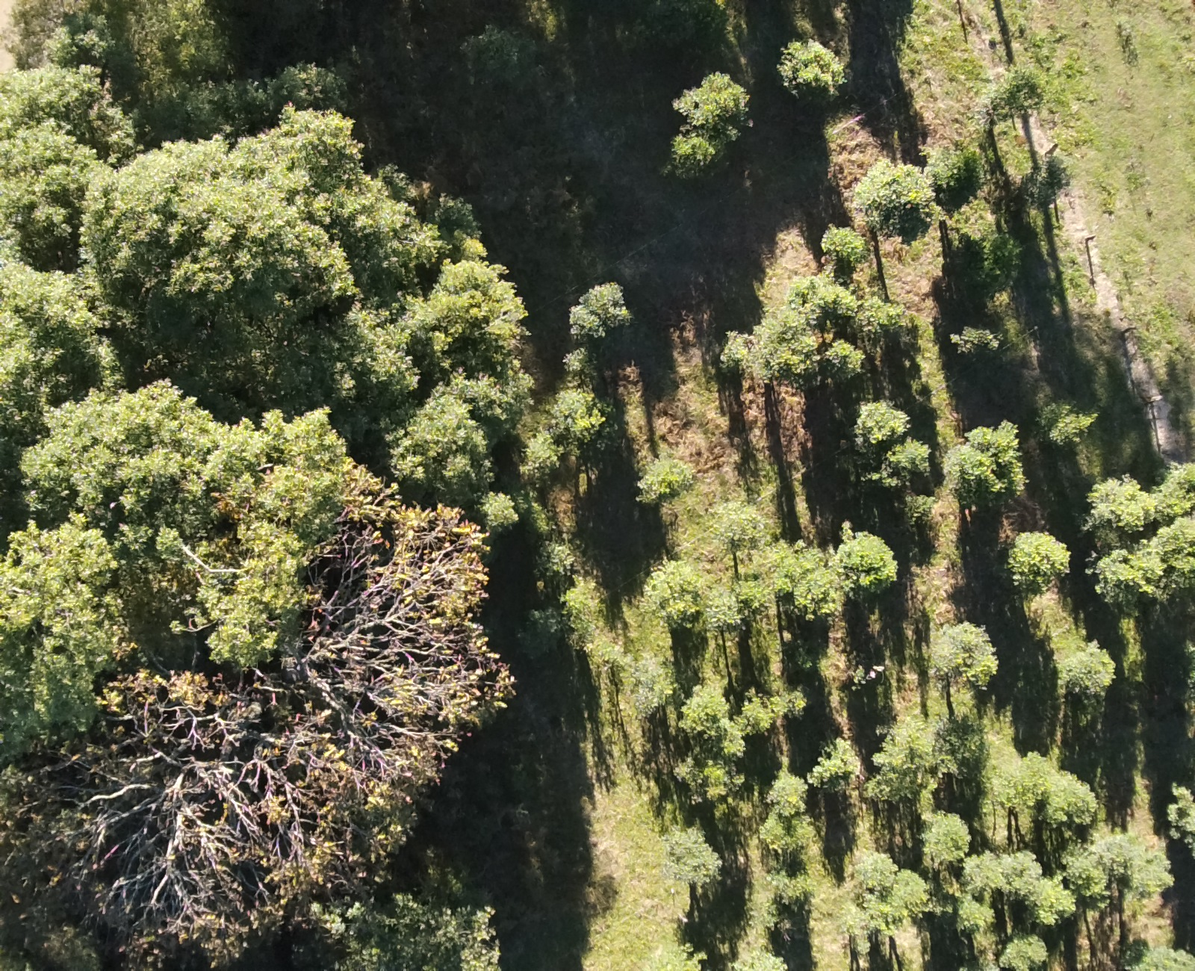erva: (924, 625, 1013, 702), (851, 156, 927, 241), (775, 30, 854, 110), (1052, 622, 1121, 708), (996, 526, 1076, 594), (556, 280, 631, 349), (680, 69, 756, 137), (966, 415, 1034, 491), (831, 531, 911, 595), (750, 307, 819, 378), (863, 727, 931, 795), (660, 831, 728, 897), (1096, 832, 1169, 893), (1038, 382, 1102, 451), (707, 492, 774, 556), (936, 457, 1011, 514), (662, 125, 734, 184), (622, 660, 684, 728), (845, 395, 910, 457), (642, 565, 704, 628), (1093, 548, 1159, 606), (788, 580, 873, 624), (930, 143, 984, 211), (804, 733, 855, 804), (831, 884, 899, 937), (1083, 474, 1146, 531), (694, 595, 756, 652), (1016, 879, 1079, 934), (670, 682, 730, 739), (912, 807, 969, 866), (991, 846, 1052, 900), (986, 753, 1043, 810), (792, 271, 850, 326), (895, 493, 955, 545), (758, 549, 821, 598), (538, 344, 605, 390), (629, 454, 691, 503), (547, 394, 601, 450), (761, 867, 818, 919), (519, 433, 568, 490), (877, 436, 934, 485), (1058, 840, 1102, 902), (934, 890, 995, 934), (1148, 532, 1191, 594), (801, 221, 857, 267), (1143, 462, 1185, 522), (1050, 772, 1107, 816), (711, 324, 757, 378), (741, 686, 779, 745), (946, 316, 1001, 356), (764, 766, 813, 810), (860, 299, 912, 340), (960, 843, 1003, 889), (816, 341, 868, 379), (899, 882, 943, 925), (854, 848, 895, 889), (1000, 931, 1049, 963), (718, 725, 751, 757)
